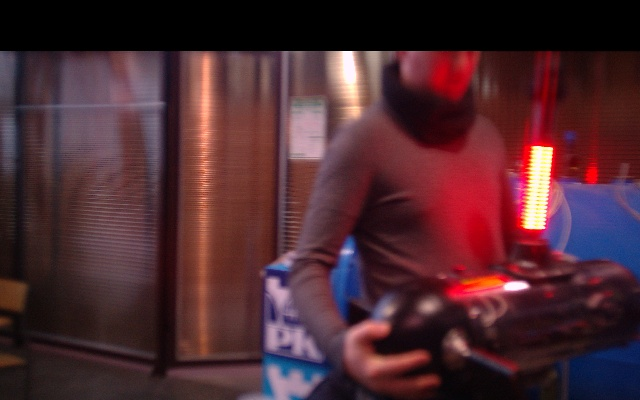red: (520, 144, 556, 233)
